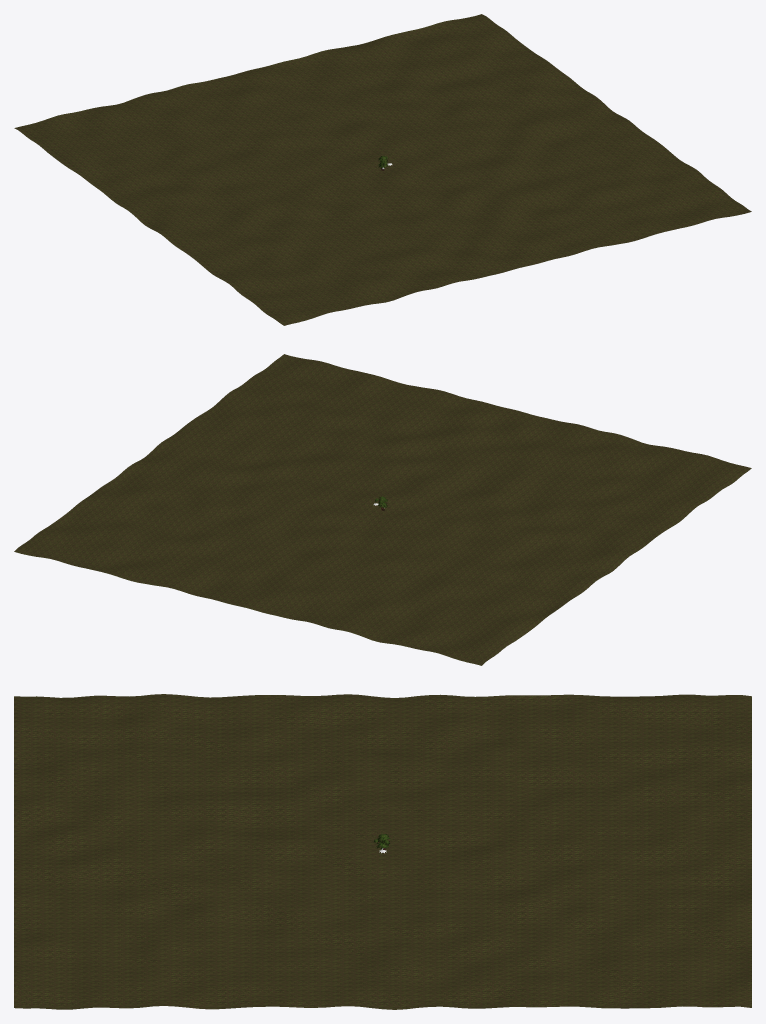
Rendered from forest_level3.glb.
The picture shows the model from 3 angles, top to bottom: view 1: azimuth 30°, elevation 25°; view 2: azimuth 150°, elevation 25°; view 3: azimuth 270°, elevation 25°; orthographic projection. The views are drawn at different scales.
Parts seen in each view (by area): view 1: Plane.001; view 2: Plane.001; view 3: Plane.001.
Boxes of the visible parts, x1,y1,x2,y2 form: Plane.001: [14, 14, 751, 325]; Plane.001: [14, 354, 751, 665]; Plane.001: [14, 694, 751, 1009].
Size of the model in its own units: 300 by 9.42 by 300.
3 materials, 3 textured.
